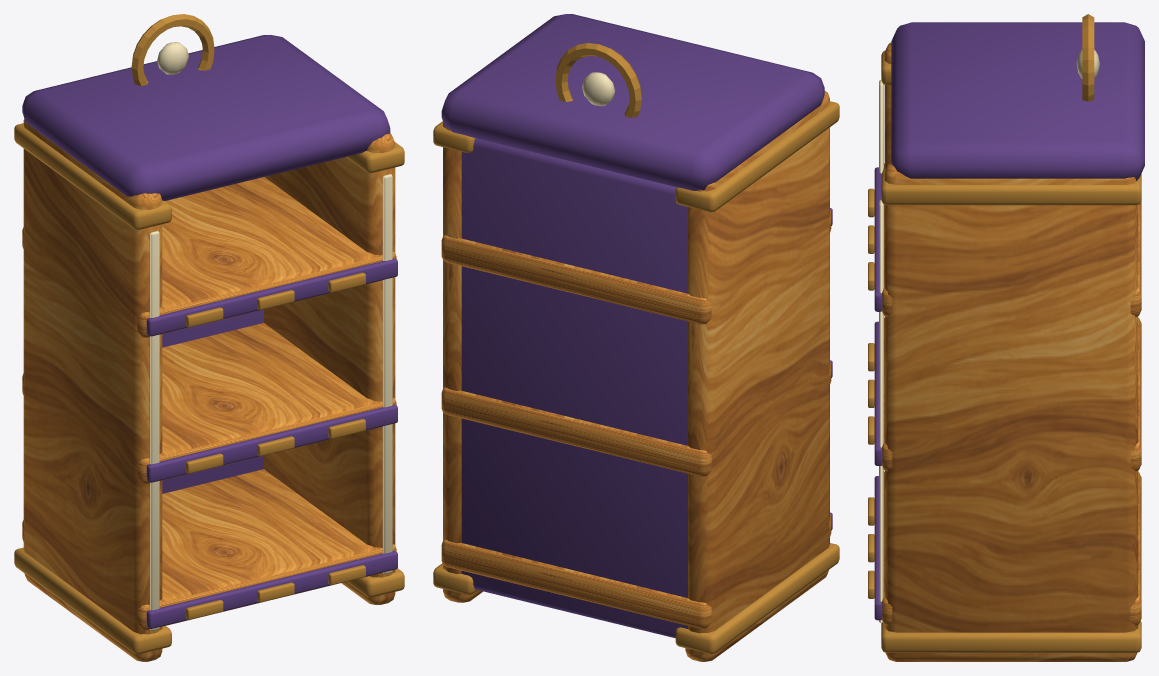
The model's file is arcane.glb.
The picture shows the model from 3 angles, left to right: view 1: azimuth 30°, elevation 25°; view 2: azimuth 150°, elevation 25°; view 3: azimuth 270°, elevation 25°; orthographic projection. The views are drawn at different scales.
Parts seen in each view (by area): view 1: arcane; view 2: arcane; view 3: arcane.
Boxes of the visible parts, x1=… form: arcane: x1=14, y1=14, x2=404, y2=661; arcane: x1=433, y1=14, x2=839, y2=661; arcane: x1=868, y1=14, x2=1144, y2=661.
Bounding box in the file's own units: 0.99 × 1.92 × 0.83.
Materials: 4 (1 with a texture image).
